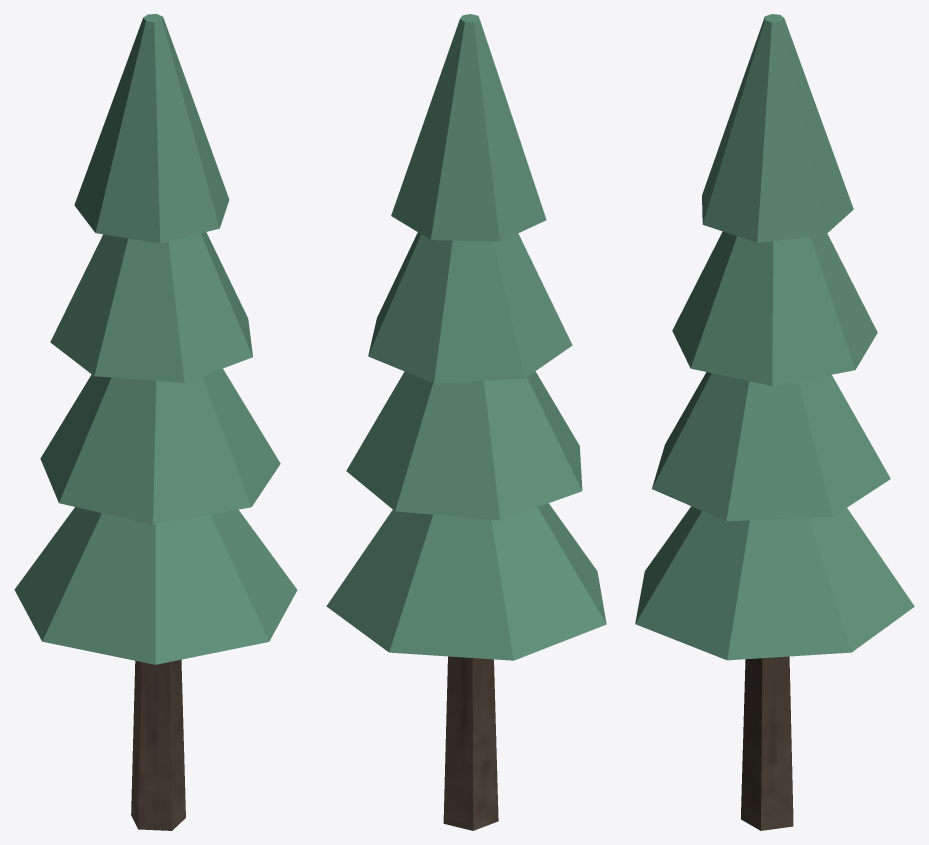
Rendered from arv_pinheiro_4.glb.
The picture shows the model from 3 angles, left to right: view 1: azimuth 30°, elevation 25°; view 2: azimuth 150°, elevation 25°; view 3: azimuth 270°, elevation 25°; orthographic projection.
Visible parts, largest first — view 1: arv_pinheiro_4; view 2: arv_pinheiro_4; view 3: arv_pinheiro_4.
Part boxes in pixels (<box>): arv_pinheiro_4: <box>14,14,297,830</box>; arv_pinheiro_4: <box>326,14,606,830</box>; arv_pinheiro_4: <box>635,14,914,830</box>.
Size of the model in its own units: 0.8267 by 2.59 by 0.8202.
Materials: 2 (1 with a texture image).
